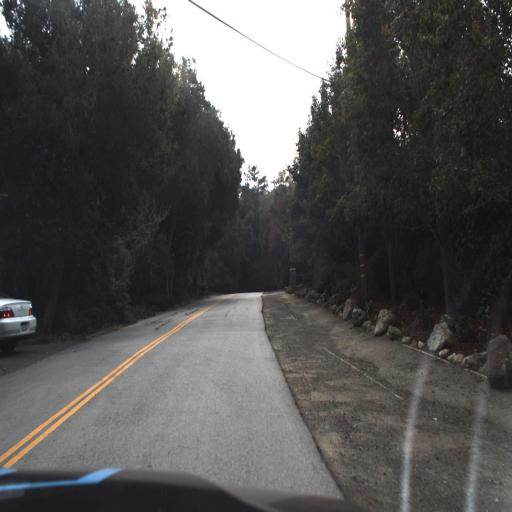car: (0, 297, 39, 359)
